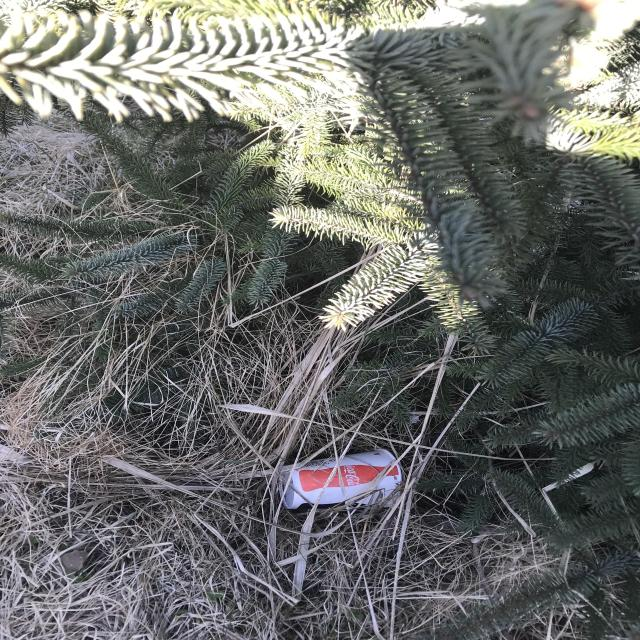litter: (597, 183, 640, 271)
